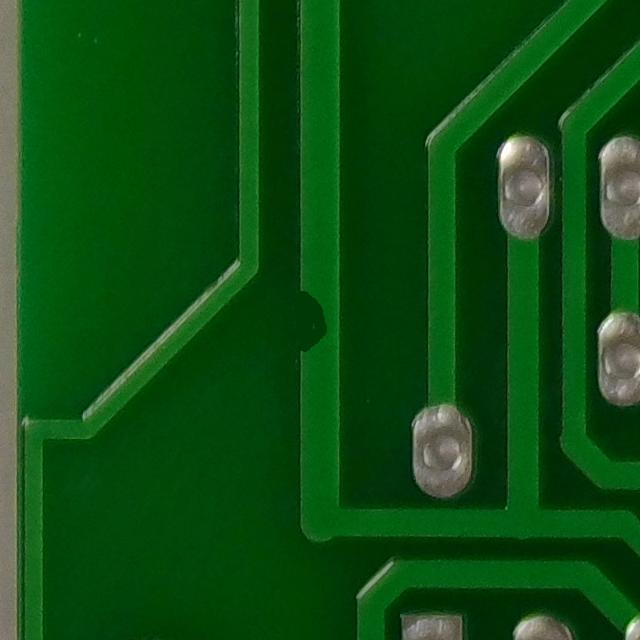mouse_bite: (284, 278, 356, 363)
